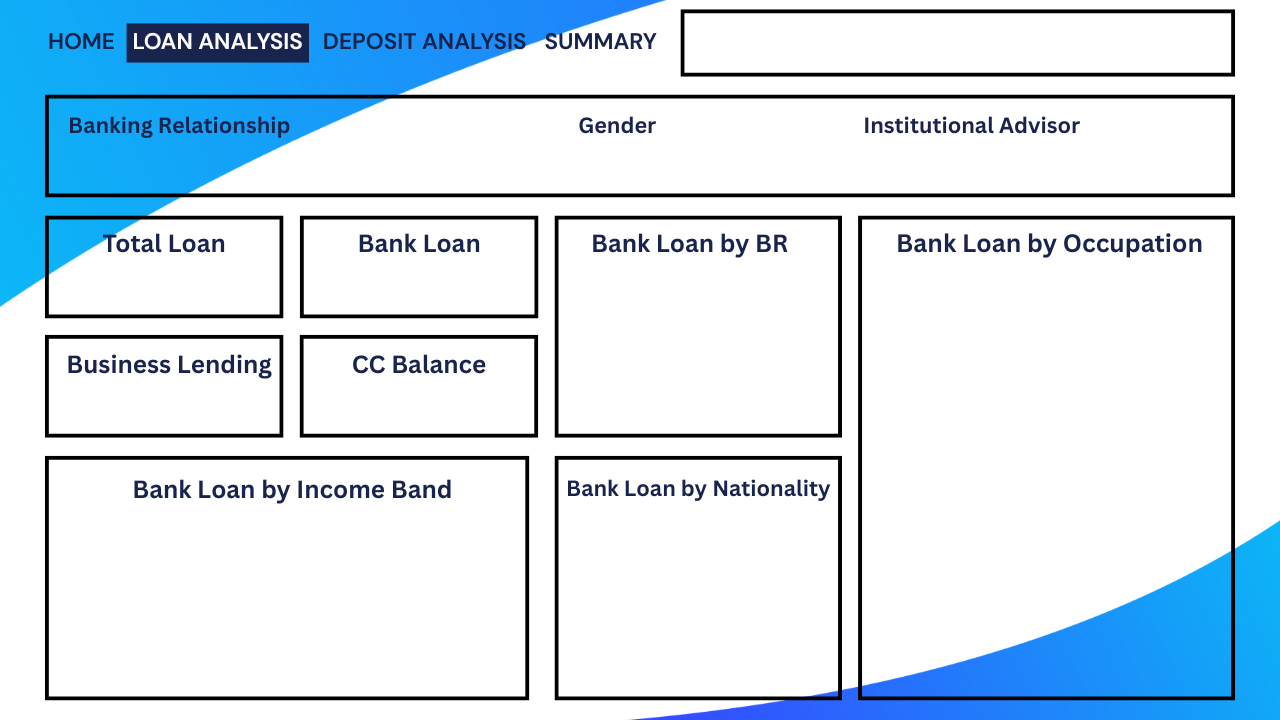

This screenshot's page, from the dashboard's own definition file:
{"tool":"powerbi","page":{"name":"Loan Analysis","canvas":[1280,720],"ordinal":1},"visuals":[{"type":"slicer","fields":{"Values":["Banking (1).Year of Joining"]},"box":[678,18.1,552.5,51.9],"z":0},{"type":"actionButton","box":[30.2,20.5,95.3,44.6],"z":1000},{"type":"actionButton","box":[541.7,19.3,117,44.6],"z":2000},{"type":"actionButton","box":[320.9,18.1,209.9,44.6],"z":3000},{"type":"card","fields":{"Values":["Banking (1).Total Loan"]},"box":[78.4,241.3,177.3,73.6],"z":4000},{"type":"card","fields":{"Values":["Sum(Banking (1).Bank Loans)"]},"box":[320.9,241.3,177.3,73.6],"z":5000},{"type":"card","fields":{"Values":["Sum(Banking (1).Business Lending)"]},"box":[78.4,359.5,177.3,73.6],"z":6000},{"type":"card","fields":{"Values":["Sum(Banking (1).Credit Card Balance)"]},"box":[320.9,359.5,177.3,73.6],"z":7000},{"type":"pieChart","fields":{"Category":["Banking (1).Income Band "],"Y":["Sum(Banking (1).Bank Loans)"]},"box":[67.6,492.2,376.4,214.7],"z":8000},{"type":"donutChart","fields":{"Category":["Banking (1).BRId"],"Y":["Sum(Banking (1).Bank Loans)"]},"box":[513.9,241.3,326.9,205.1],"z":9000},{"type":"clusteredColumnChart","fields":{"Category":["Banking (1).Nationality"],"Y":["Sum(Banking (1).Bank Loans)"]},"box":[562.2,492.2,278.7,205.1],"z":10000},{"type":"clusteredColumnChart","fields":{"Y":["Sum(Banking (1).Bank Loans)"],"Category":["Banking (1).Occupation"]},"box":[873.5,270.2,343.8,415],"z":11000},{"type":"slicer","fields":{"Values":["Banking (1).BRId"]},"box":[32.6,131.5,445.2,56.7],"z":12000},{"type":"slicer","fields":{"Values":["Banking (1).GenderId"]},"box":[498.3,131.5,240.1,56.7],"z":13000},{"type":"slicer","fields":{"Values":["Banking (1).IAId"]},"box":[745.6,130.3,471.7,56.7],"z":14000}]}

Visuals, with their boxes on the page's 1280x720 design canvas (x1, y1, x2, y2). These are canvas units, not pixel positions in the 1280x720 screenshot, which may show the page scaled, cropped or inside an application window:
slicer - Banking (1).Year of Joining: bbox=(678, 18, 1230, 70)
actionButton: bbox=(30, 20, 126, 65)
actionButton: bbox=(542, 19, 659, 64)
actionButton: bbox=(321, 18, 531, 63)
card - Banking (1).Total Loan: bbox=(78, 241, 256, 315)
card - Sum(Banking (1).Bank Loans): bbox=(321, 241, 498, 315)
card - Sum(Banking (1).Business Lending): bbox=(78, 360, 256, 433)
card - Sum(Banking (1).Credit Card Balance): bbox=(321, 360, 498, 433)
pieChart - Banking (1).Income Band  x Sum(Banking (1).Bank Loans): bbox=(68, 492, 444, 707)
donutChart - Banking (1).BRId x Sum(Banking (1).Bank Loans): bbox=(514, 241, 841, 446)
clusteredColumnChart - Banking (1).Nationality x Sum(Banking (1).Bank Loans): bbox=(562, 492, 841, 697)
clusteredColumnChart - Sum(Banking (1).Bank Loans) x Banking (1).Occupation: bbox=(874, 270, 1217, 685)
slicer - Banking (1).BRId: bbox=(33, 132, 478, 188)
slicer - Banking (1).GenderId: bbox=(498, 132, 738, 188)
slicer - Banking (1).IAId: bbox=(746, 130, 1217, 187)
